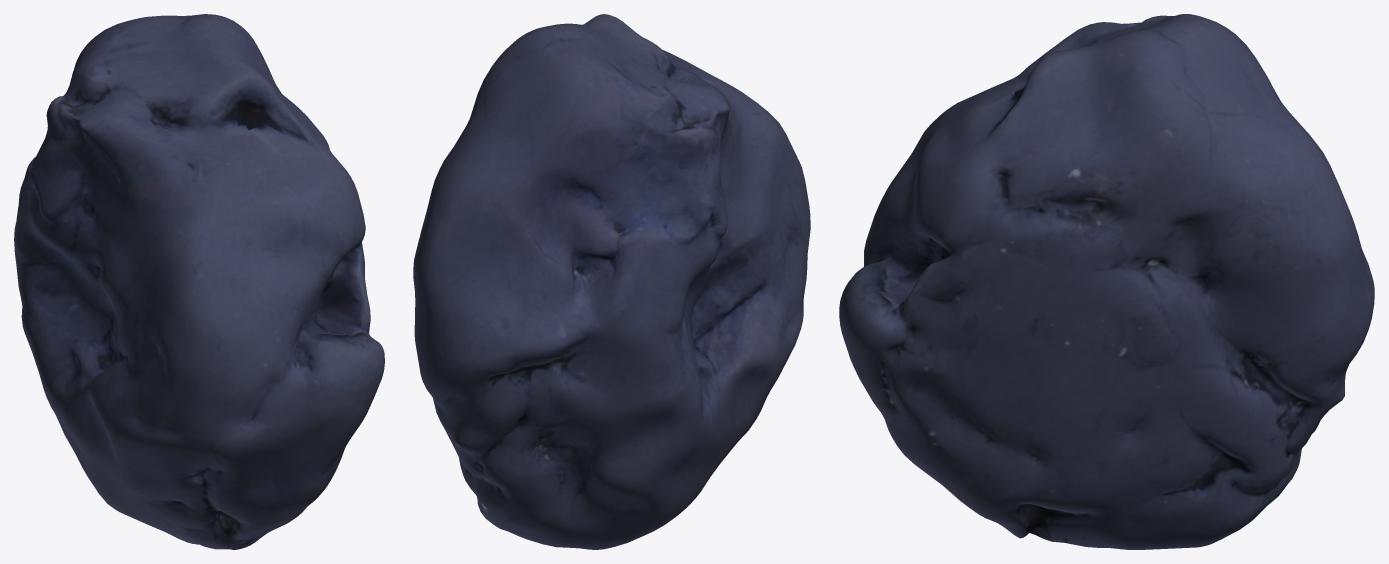
The model's file is Nicolas_Wheel.glb.
3 renders of one model, left to right at view 1: azimuth 30°, elevation 25°; view 2: azimuth 150°, elevation 25°; view 3: azimuth 270°, elevation 25°, orthographic. The views are drawn at different scales.
Visible parts, largest first — view 1: Nicolas_Wheel; view 2: Nicolas_Wheel; view 3: Nicolas_Wheel.
Part boxes in pixels (bbox=[...]): Nicolas_Wheel: bbox=[14, 14, 384, 549]; Nicolas_Wheel: bbox=[413, 14, 810, 549]; Nicolas_Wheel: bbox=[839, 14, 1374, 549].
Bounding box in the file's own units: 0.4488 × 0.8997 × 0.83.
1 material, 1 textured.
